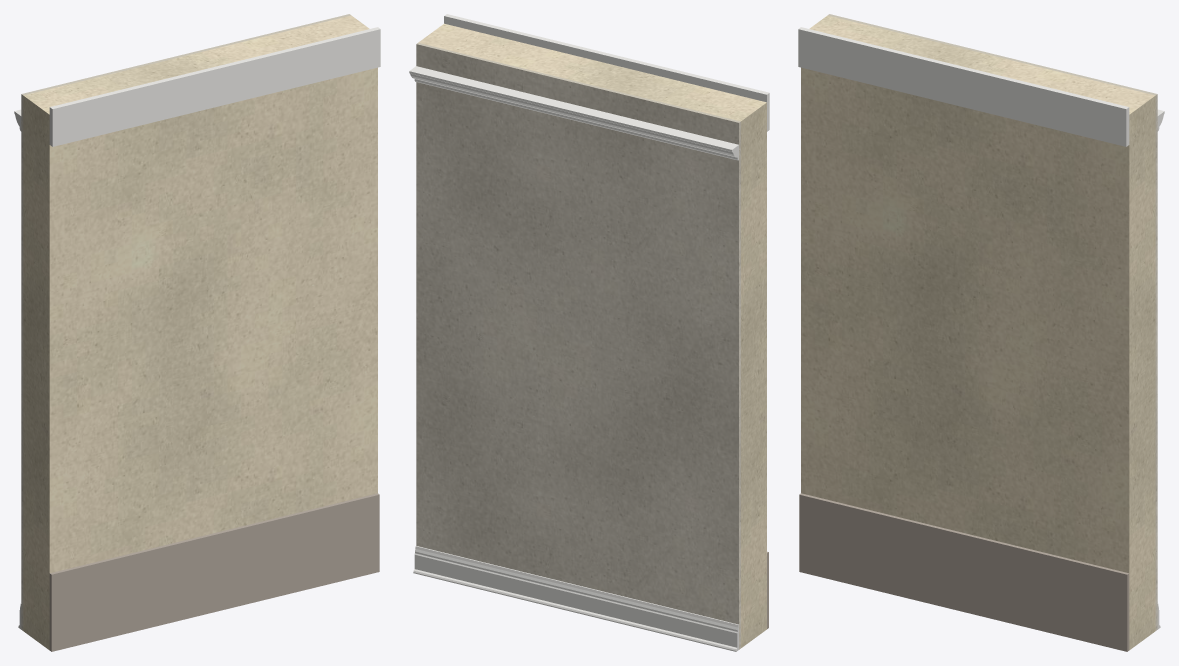
The model's file is wall_back_plain.glb.
3 renders of one model, left to right at view 1: azimuth 30°, elevation 25°; view 2: azimuth 150°, elevation 25°; view 3: azimuth 330°, elevation 25°, orthographic.
Parts seen in each view (by area): view 1: wall_back_plain_stucco, wall_back_plain_plinth, wall_back_plain_trim, wall_back_plain_plaster; view 2: wall_back_plain_plaster, wall_back_plain_stucco, molduras, wall_back_plain_trim; view 3: wall_back_plain_stucco, wall_back_plain_plinth, wall_back_plain_trim, wall_back_plain_plaster.
Boxes of the visible parts, left/top/right/bottom form: wall_back_plain_stucco: left=23, top=15, right=377, bottom=650; wall_back_plain_plinth: left=49, top=493, right=379, bottom=651; wall_back_plain_trim: left=49, top=27, right=380, bottom=146; wall_back_plain_plaster: left=21, top=14, right=350, bottom=630; wall_back_plain_plaster: left=416, top=43, right=740, bottom=649; wall_back_plain_stucco: left=418, top=23, right=766, bottom=647; molduras: left=409, top=66, right=738, bottom=651; wall_back_plain_trim: left=444, top=14, right=769, bottom=131; wall_back_plain_stucco: left=801, top=15, right=1155, bottom=650; wall_back_plain_plinth: left=799, top=493, right=1129, bottom=651; wall_back_plain_trim: left=798, top=27, right=1129, bottom=146; wall_back_plain_plaster: left=828, top=14, right=1157, bottom=630.
Bounding box in the file's own units: 2 × 3.16 × 0.405.
4 materials, 2 textured.
